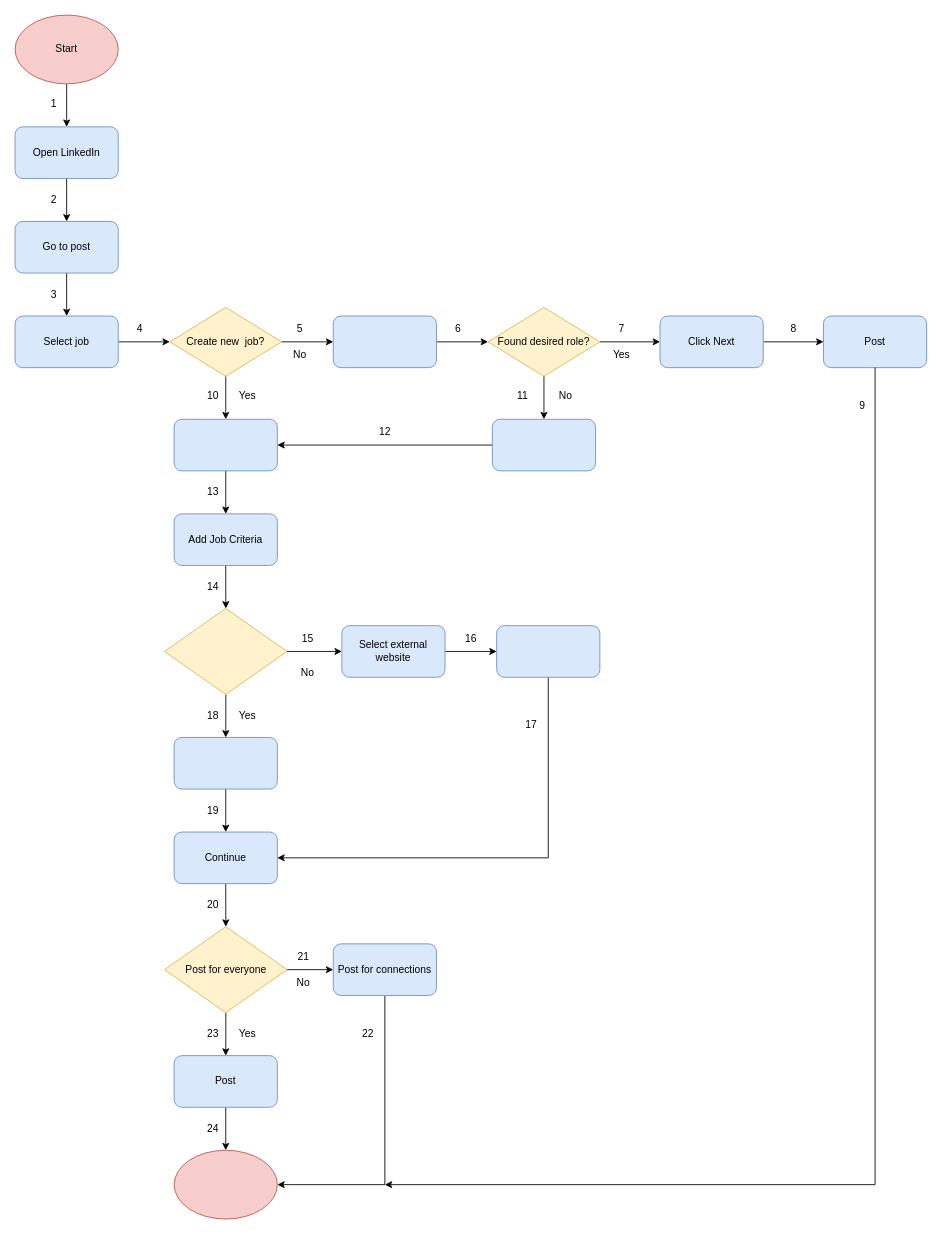
The diagram is 942 pixels wide and 1234 high, and some of its shapes have lost their labels. The shapes that lost their labels are listed below. From the top down, each one's centre as x and y in pixels, then its label:
the point at 384,341: Search for job roles
the point at 225,444: Fill the required information
the point at 543,444: Create new job
the point at 225,651: Appication collector with email?
the point at 548,651: Give company website
the point at 225,763: Give company email address
the point at 225,1184: End
